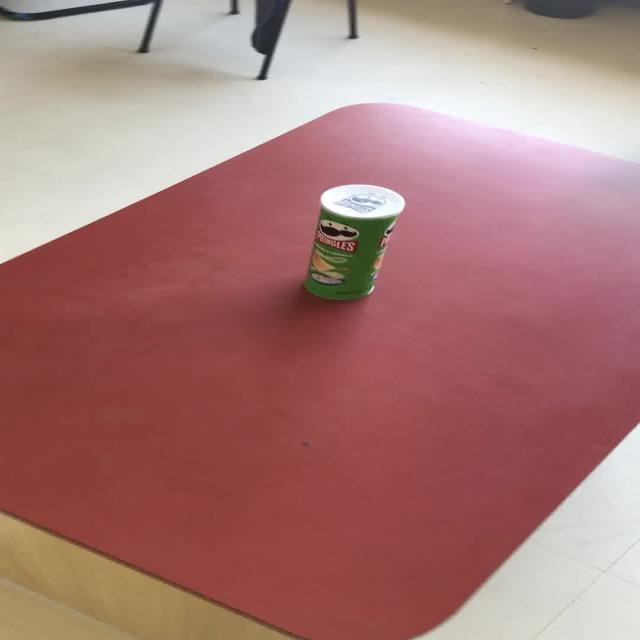pringles: (301, 182, 405, 300)
